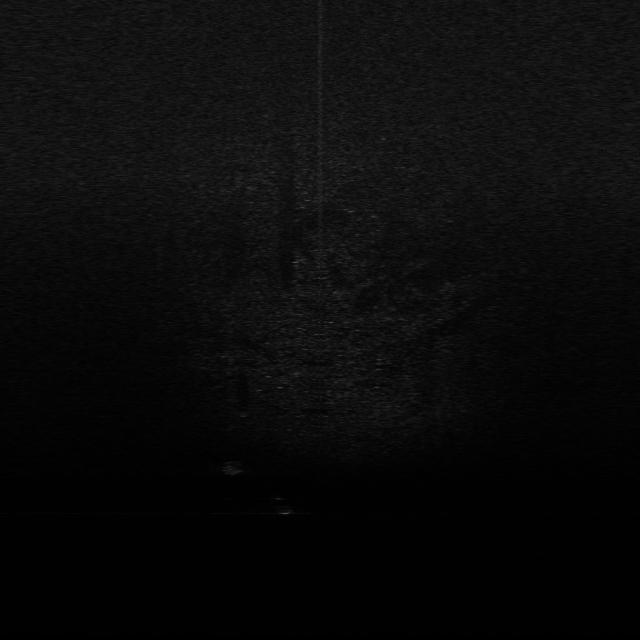ball: (233, 405, 257, 423)
circle cage: (217, 457, 254, 479)
tyre: (267, 492, 303, 516)
